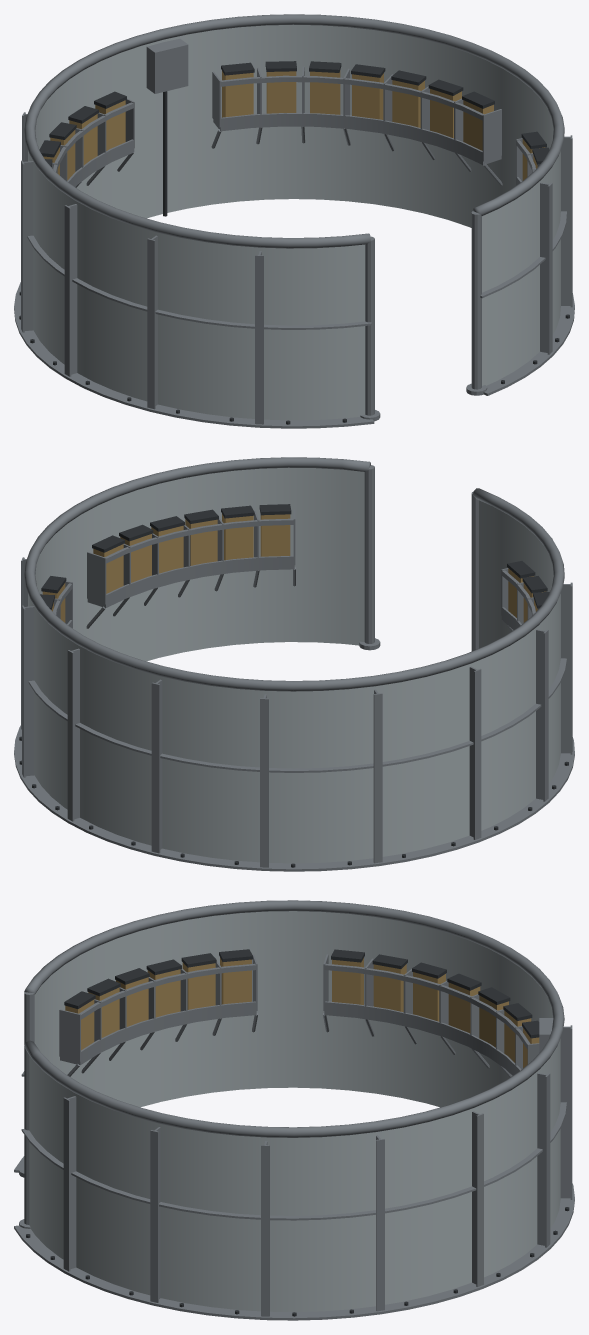
3 views of the same model, one above another, from view 1: azimuth 30°, elevation 25°; view 2: azimuth 150°, elevation 25°; view 3: azimuth 270°, elevation 25° (orthographic).
Visible parts, largest first — view 1: component.root.mesh; view 2: component.root.mesh; view 3: component.root.mesh.
Boxes of the visible parts, x1,y1,x2,y2 form: component.root.mesh: (14,14,574,428); component.root.mesh: (14,457,574,871); component.root.mesh: (14,900,574,1320).
Size of the model in its own units: 3.2 by 1.16 by 3.16.
